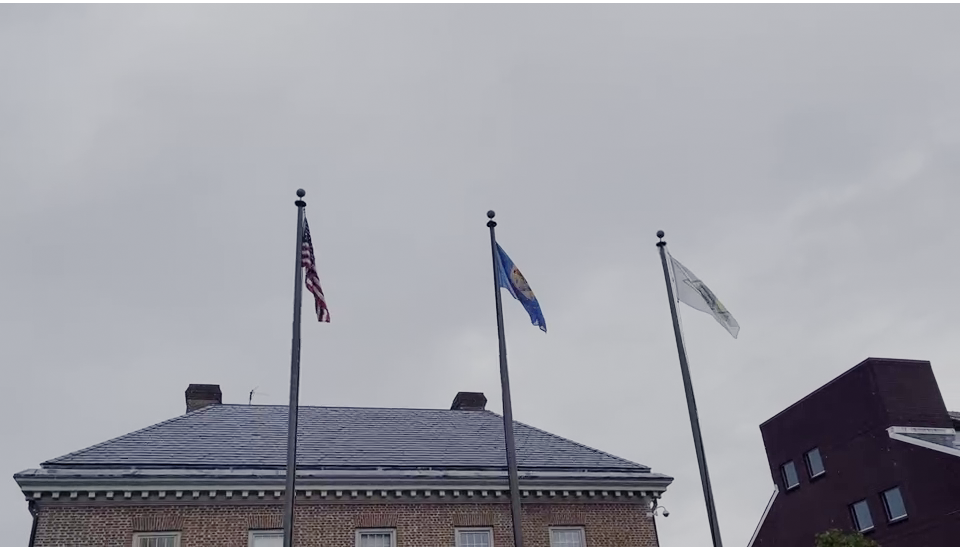America flag: (303, 208, 333, 330)
Delaware flag: (495, 235, 549, 330)
